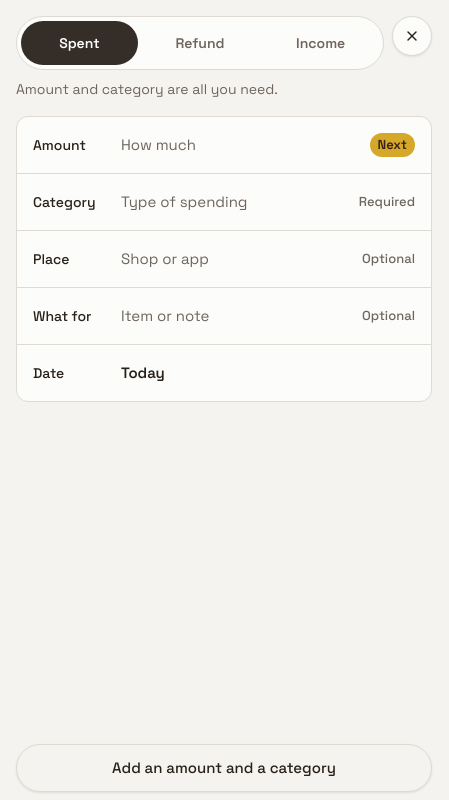
Test: /log pointer-down pick (MOB-R71 C3) › a new place picked on pointer down, then an immediate category tap, applies both
This screenshot has width=449, height=800.
Step 1. Click the button "Place Shop or app Optional" → (51,259), box x1=17 y1=231 x2=431 y2=287
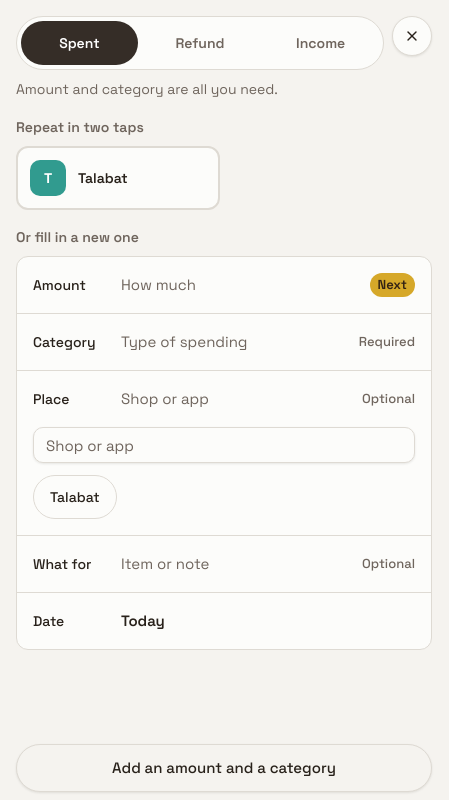
Step 2. Type "Bread Co" into the field named "Search places" → (224,445), box x1=33 y1=427 x2=415 y2=463
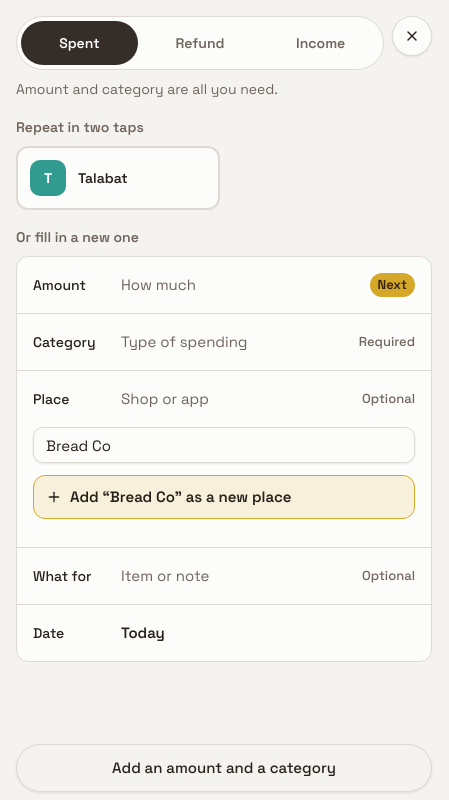
Step 3. Press the mouse on the button "Add “Bread Co” as a new place" → (224,497), box x1=33 y1=475 x2=415 y2=519
Expected: the button "Place Shop or app Optional" does not show "Bread Co", x1=17 y1=371 x2=431 y2=427
Step 4. Click the button "Add “Bread Co” as a new place" → (224,497), box x1=33 y1=475 x2=415 y2=519
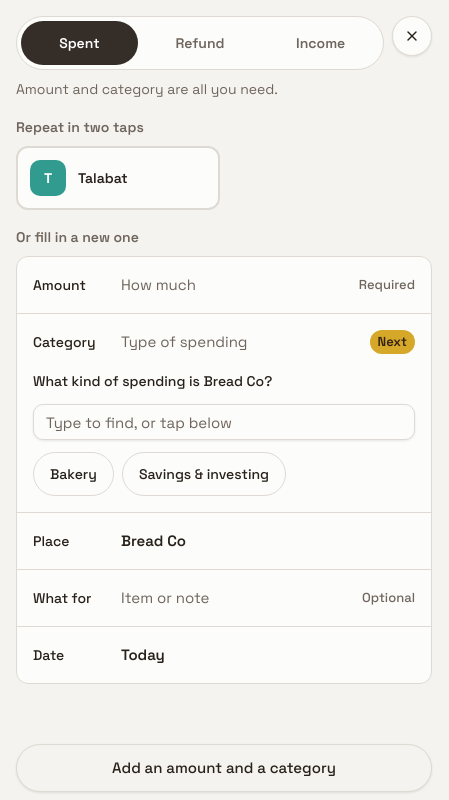
Now the button "Place Bread Co" is shown, box x1=17 y1=513 x2=431 y2=569
Step 5. Click the button "Bakery" → (73,474), box x1=33 y1=452 x2=114 y2=496
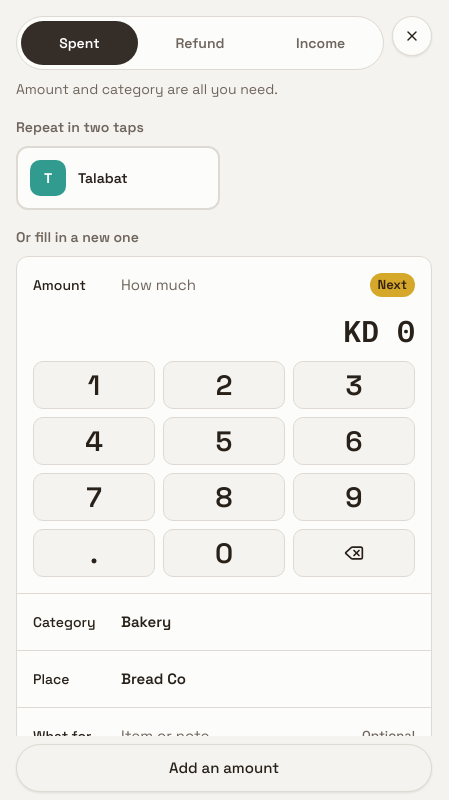
Now the button "Category Bakery" is shown, box x1=17 y1=594 x2=431 y2=650
